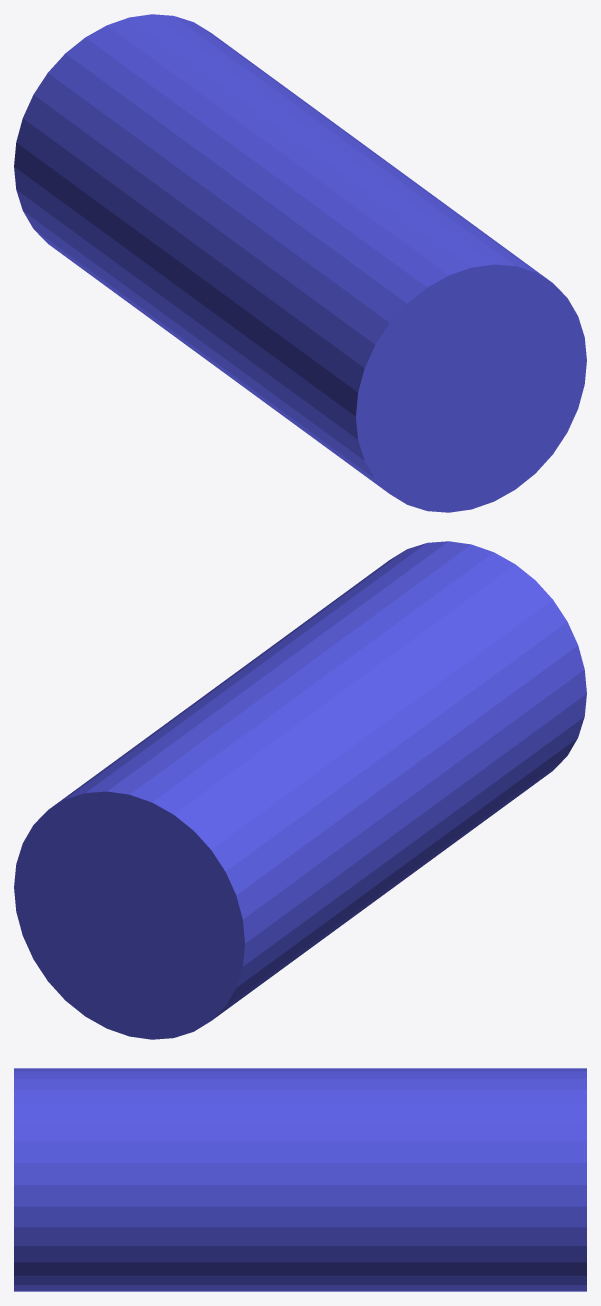
File: InnerDetector_Simple.glb
The picture shows the model from 3 angles, top to bottom: view 1: azimuth 30°, elevation 25°; view 2: azimuth 150°, elevation 25°; view 3: azimuth 270°, elevation 25°; orthographic projection. The views are drawn at different scales.
Visible parts, largest first — view 1: InnerDetector Simple; view 2: InnerDetector Simple; view 3: InnerDetector Simple.
Boxes of the visible parts, x1,y1,x2,y2 form: InnerDetector Simple: (14,14,586,512); InnerDetector Simple: (14,541,586,1039); InnerDetector Simple: (14,1068,586,1291).
Bounding box in the file's own units: 2.12 × 2.12 × 5.44.
